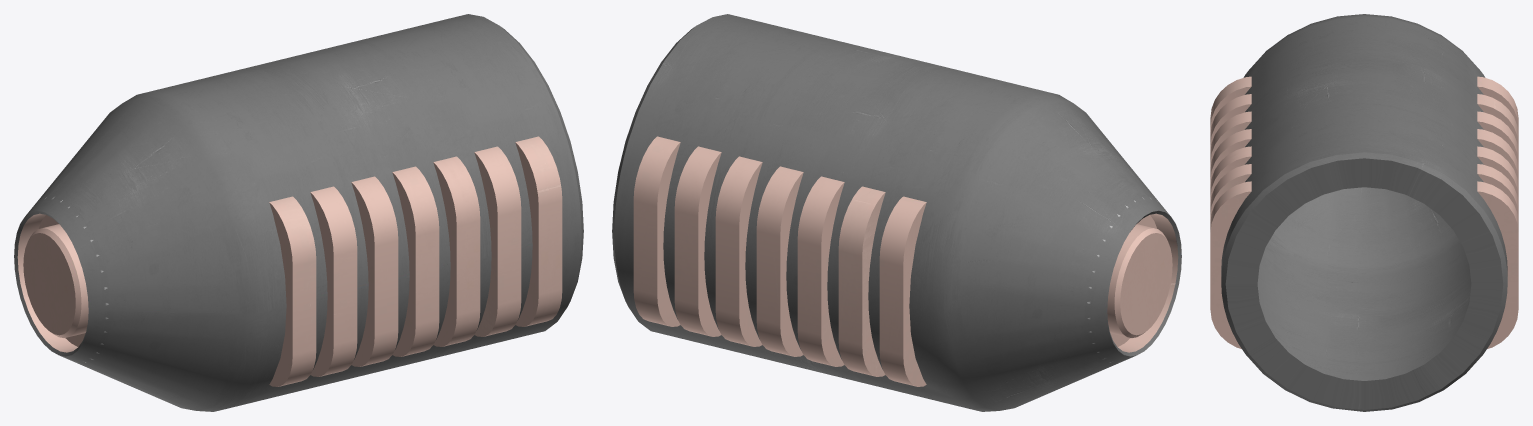
Rendered from pommel_16_u_c.glb.
3 views of the same model, side by side, from view 1: azimuth 30°, elevation 25°; view 2: azimuth 150°, elevation 25°; view 3: azimuth 270°, elevation 25° (orthographic). The views are drawn at different scales.
Visible parts, largest first — view 1: pommel_16_u_c_lod0; view 2: pommel_16_u_c_lod0; view 3: pommel_16_u_c_lod0.
Part boxes in pixels (x1,y1,x2,y2): pommel_16_u_c_lod0: (14,14,583,411); pommel_16_u_c_lod0: (612,14,1181,411); pommel_16_u_c_lod0: (1210,14,1518,411).
Size of what is drawn, in the model's own units: 0.0484 by 0.0302 by 0.0325.
Materials: 1 (1 with a texture image).
